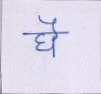ai_matra: (39, 15, 60, 31)
